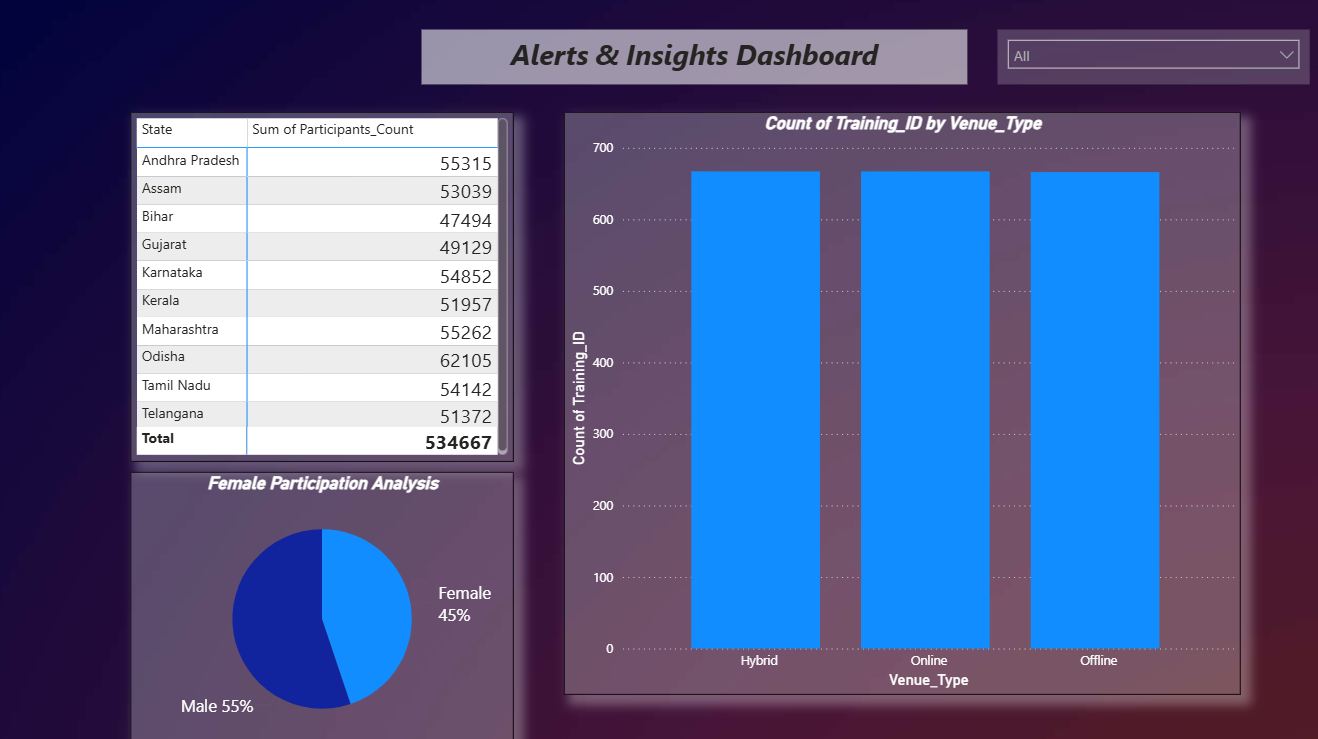

Layout of this report page (visuals, bound fields, positions):
{"tool":"powerbi","page":{"name":"Alerts & Insights","canvas":[1280,720],"ordinal":4},"visuals":[{"type":"textbox","box":[409.2,33.6,523.2,52.6],"z":0},{"type":"pivotTable","title":"Low Coverage States","fields":{"Rows":["Training_Data.State"],"Values":["Sum(Training_Data.Participants_Count)"]},"box":[131.2,112.3,367.4,335.3],"z":1000},{"type":"pieChart","title":"Female Participation Analysis","fields":{"Y":["Sum(Training_Data.Female_Count)","Sum(Training_Data.Male_Count)"]},"box":[131.2,457.8,367.4,262.4],"z":2000},{"type":"columnChart","fields":{"Category":["Training_Data.Venue_Type"],"Y":["Training_Data.Count of Training_ID"]},"box":[546.7,112.3,648.7,558.4],"z":3000},{"type":"slicer","fields":{"Values":["Training_Data.State","Training_Data.District","Training_Data.Disaster_Theme","Training_Data.Institution_Type","Training_Data.Date","Training_Data.Venue_Type"]},"box":[961.6,33.6,299.6,52.6],"z":4000}]}

Visuals, with their boxes in screenshot pixels (x1, y1, x2, y2), scaled from the page's 1280x720 canvas onto the 1318x739 screenshot:
textbox: 421,34,960,88
"Low Coverage States" pivotTable: 135,115,513,459
"Female Participation Analysis" pieChart: 135,470,513,738
columnChart - Training_Data.Venue_Type x Training_Data.Count of Training_ID: 563,115,1231,688
slicer - Training_Data.State x Training_Data.District: 990,34,1299,88
